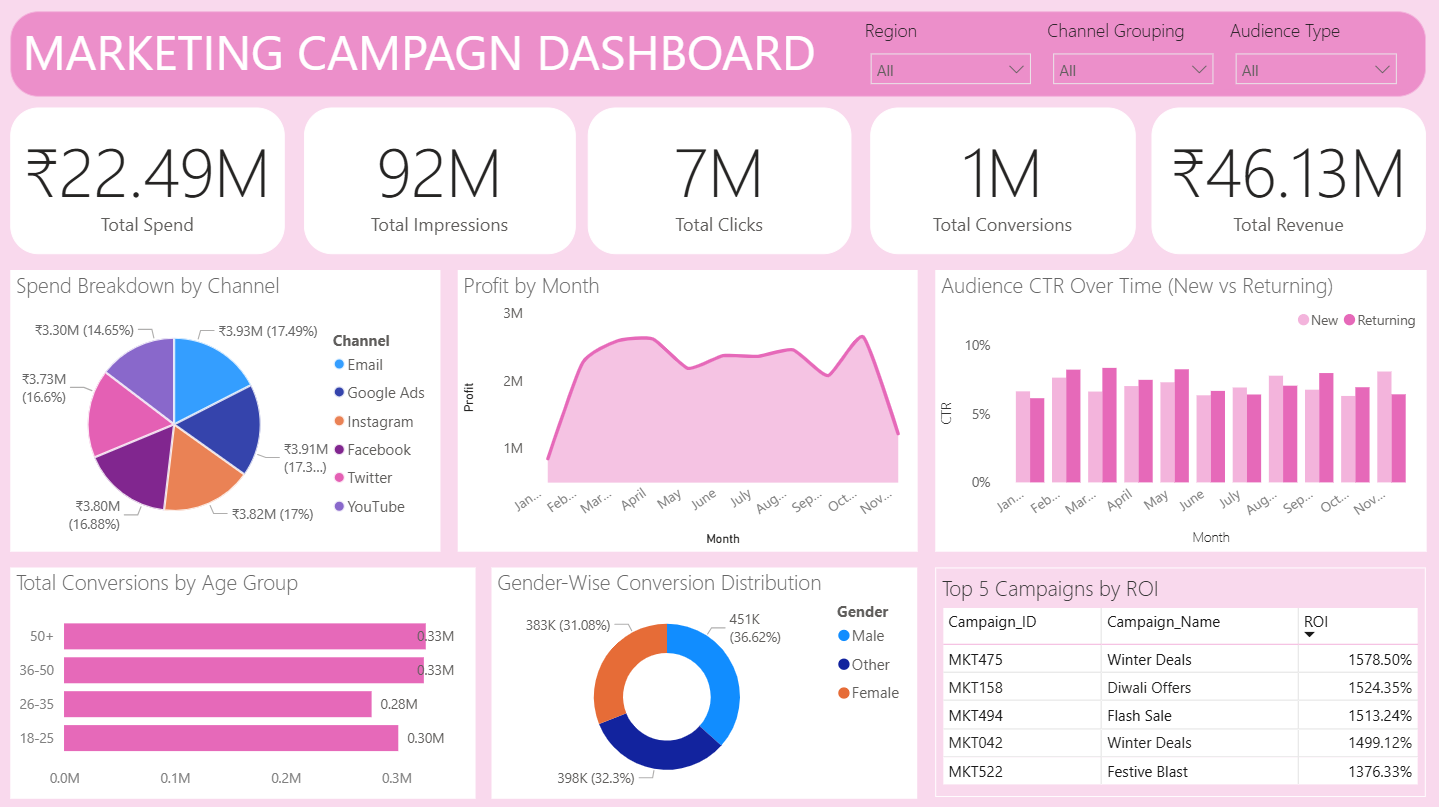

The page's visual inventory and layout, read from the dashboard file:
{"tool":"powerbi","page":{"name":"Page 1","canvas":[1280,720],"ordinal":0},"visuals":[{"type":"card","fields":{"Values":["marketing_campaign_dataset.Total Spend"]},"box":[10,95.7,244.3,130],"z":0},{"type":"card","fields":{"Values":["marketing_campaign_dataset.Total Impressions"]},"box":[271.4,95.7,241.4,130],"z":1000},{"type":"card","fields":{"Values":["marketing_campaign_dataset.Total Clicks"]},"box":[522.9,95.7,234.3,130],"z":2000},{"type":"card","fields":{"Values":["marketing_campaign_dataset.Total Conversions"]},"box":[774.3,95.7,235.7,130],"z":3000},{"type":"textbox","box":[10,10,1258.6,75.7],"z":4000},{"type":"slicer","title":"Channel Grouping","fields":{"Values":["marketing_campaign_dataset.Channel"]},"box":[926.7,16,162.7,62],"z":5000},{"type":"barChart","title":"Total Conversions by Age Group","fields":{"Category":["marketing_campaign_dataset.Age_Group"],"Y":["marketing_campaign_dataset.Total Conversions"]},"box":[10,504.5,413.6,205.5],"z":6000},{"type":"slicer","title":"Audience Type","fields":{"Values":["marketing_campaign_dataset.Audience_Type"]},"box":[1089.3,16,163.3,64],"z":7000},{"type":"card","fields":{"Values":["marketing_campaign_dataset.Total Revenue"]},"box":[1024.3,95.7,244.3,130],"z":8000},{"type":"tableEx","title":"Top 5 Campaigns by ROI","fields":{"Values":["marketing_campaign_dataset.Campaign_ID","marketing_campaign_dataset.Campaign_Name","marketing_campaign_dataset.ROI"]},"box":[831.8,504.5,436.4,203.6],"z":9000},{"type":"slicer","title":"Region","fields":{"Values":["marketing_campaign_dataset.Region"]},"box":[764.2,15.8,162.5,62.5],"z":10000},{"type":"pieChart","title":"Spend Breakdown by Channel","fields":{"Category":["marketing_campaign_dataset.Channel"],"Y":["Sum(marketing_campaign_dataset.Ad Spend)"]},"box":[10,240,382.7,250],"z":11000},{"type":"donutChart","title":"Gender-Wise Conversion Distribution","fields":{"Category":["marketing_campaign_dataset.Gender"],"Y":["Sum(marketing_campaign_dataset.Conversions)"]},"box":[438.2,504.5,378.2,205.5],"z":12000},{"type":"lineClusteredColumnComboChart","title":"Audience CTR Over Time (New vs Returning)","fields":{"Y":["marketing_campaign_dataset.CTR"],"Series":["marketing_campaign_dataset.Audience_Type"],"Category":["marketing_campaign_dataset.End_Date.Variation.Date Hierarchy.Month"]},"box":[831.7,240,436.7,250],"z":13000},{"type":"stackedAreaChart","fields":{"Category":["marketing_campaign_dataset.End_Date.Variation.Date Hierarchy.Month"],"Y":["marketing_campaign_dataset.Profit"]},"box":[407.5,240,409.2,250],"z":14000}]}

Visuals, with their boxes in screenshot pixels (x1, y1, x2, y2), scaled from the page's 1280x720 canvas onto the 1439x807 screenshot:
card - marketing_campaign_dataset.Total Spend: 11, 107, 286, 253
card - marketing_campaign_dataset.Total Impressions: 305, 107, 576, 253
card - marketing_campaign_dataset.Total Clicks: 588, 107, 851, 253
card - marketing_campaign_dataset.Total Conversions: 870, 107, 1135, 253
textbox: 11, 11, 1426, 96
"Channel Grouping" slicer: 1042, 18, 1225, 87
"Total Conversions by Age Group" barChart: 11, 565, 476, 796
"Audience Type" slicer: 1225, 18, 1408, 90
card - marketing_campaign_dataset.Total Revenue: 1152, 107, 1426, 253
"Top 5 Campaigns by ROI" tableEx: 935, 565, 1426, 794
"Region" slicer: 859, 18, 1042, 88
"Spend Breakdown by Channel" pieChart: 11, 269, 441, 549
"Gender-Wise Conversion Distribution" donutChart: 493, 565, 918, 796
"Audience CTR Over Time (New vs Returning)" lineClusteredColumnComboChart: 935, 269, 1426, 549
stackedAreaChart - marketing_campaign_dataset.End_Date.Variation.Date Hierarchy.Month x marketing_campaign_dataset.Profit: 458, 269, 918, 549
